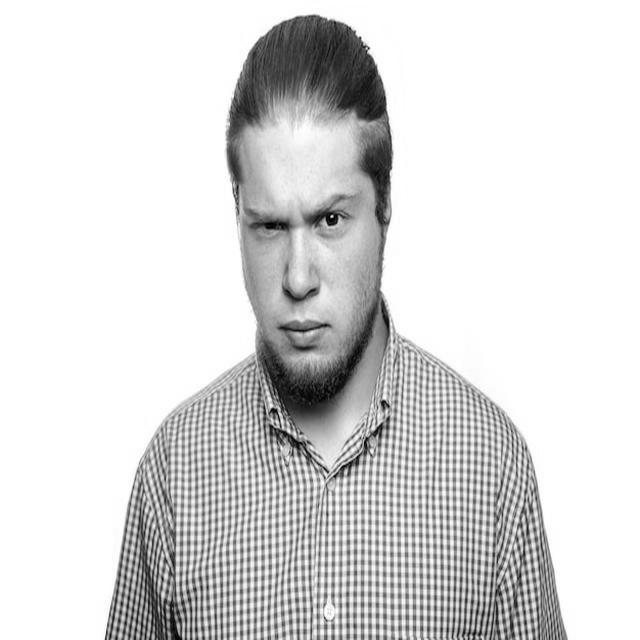Angry: (238, 127, 382, 398)
